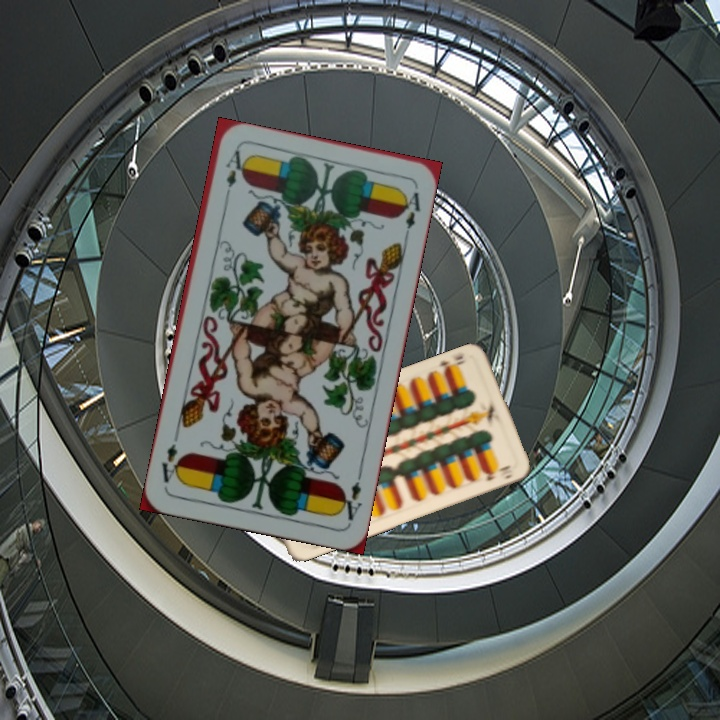E10: (434, 351, 468, 376)
EA: (335, 466, 365, 523), (220, 146, 244, 205)
